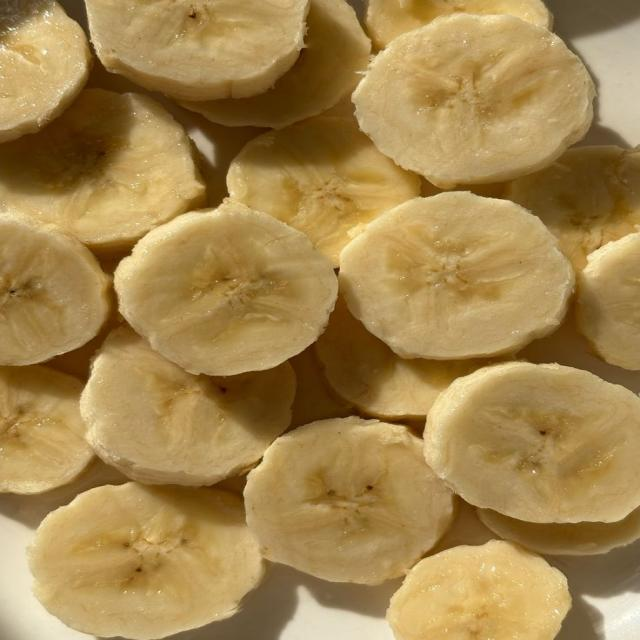banana slice: (354, 14, 594, 188), (340, 192, 573, 359), (115, 201, 337, 375), (29, 483, 264, 639), (245, 417, 453, 584), (425, 362, 639, 522), (80, 327, 295, 486), (0, 89, 205, 254), (227, 116, 420, 266), (180, 0, 370, 128), (87, 0, 309, 100), (315, 297, 486, 420), (387, 541, 571, 639), (0, 212, 110, 365), (505, 146, 639, 270), (0, 0, 91, 142), (0, 365, 93, 493), (365, 0, 553, 48), (577, 233, 639, 370), (478, 508, 639, 555), (47, 304, 123, 380), (289, 346, 354, 427), (429, 497, 495, 555)
